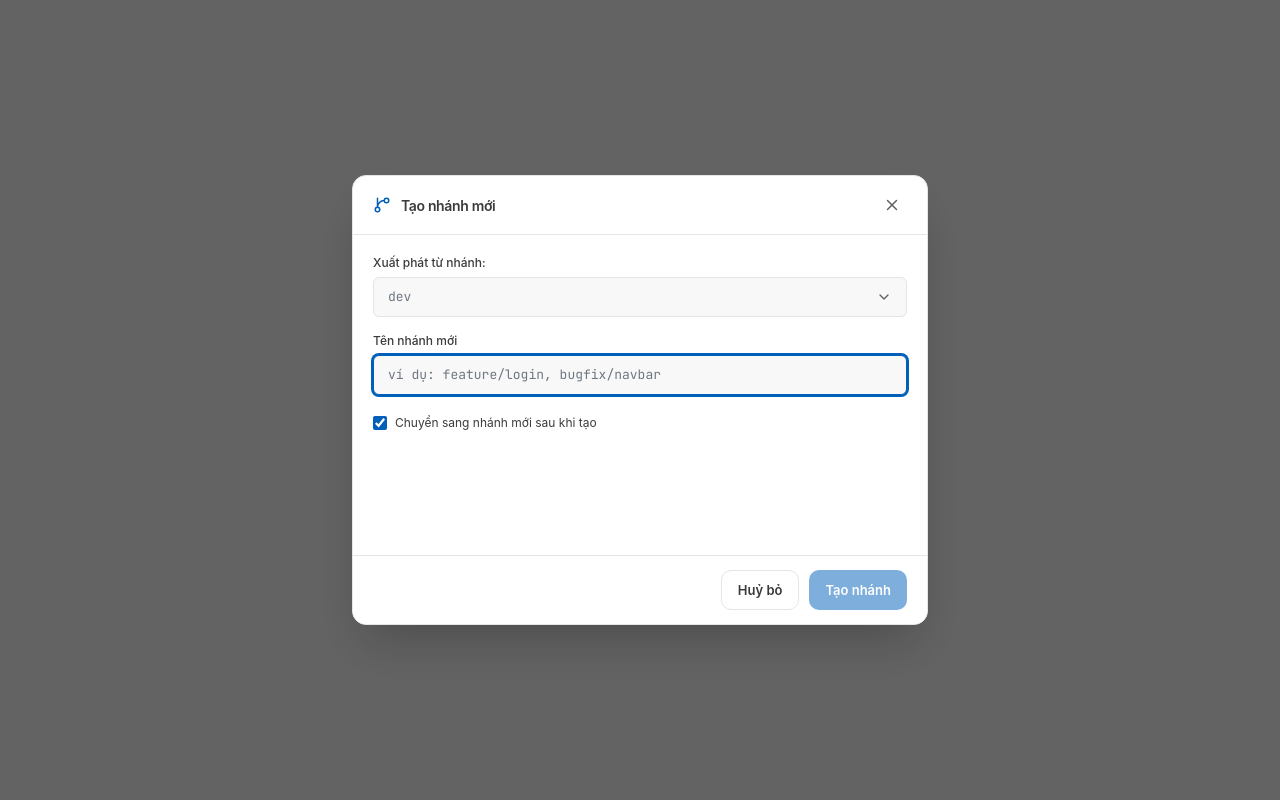
Test: CreateBranchModal checkout conflict › hides the conflict actions once the name is edited
The image size is (1280, 800).
Type "feat-x" into the field labelled "Tên nhánh mới".
click(640, 375); type("feat-x")  # box [373, 355, 907, 395]
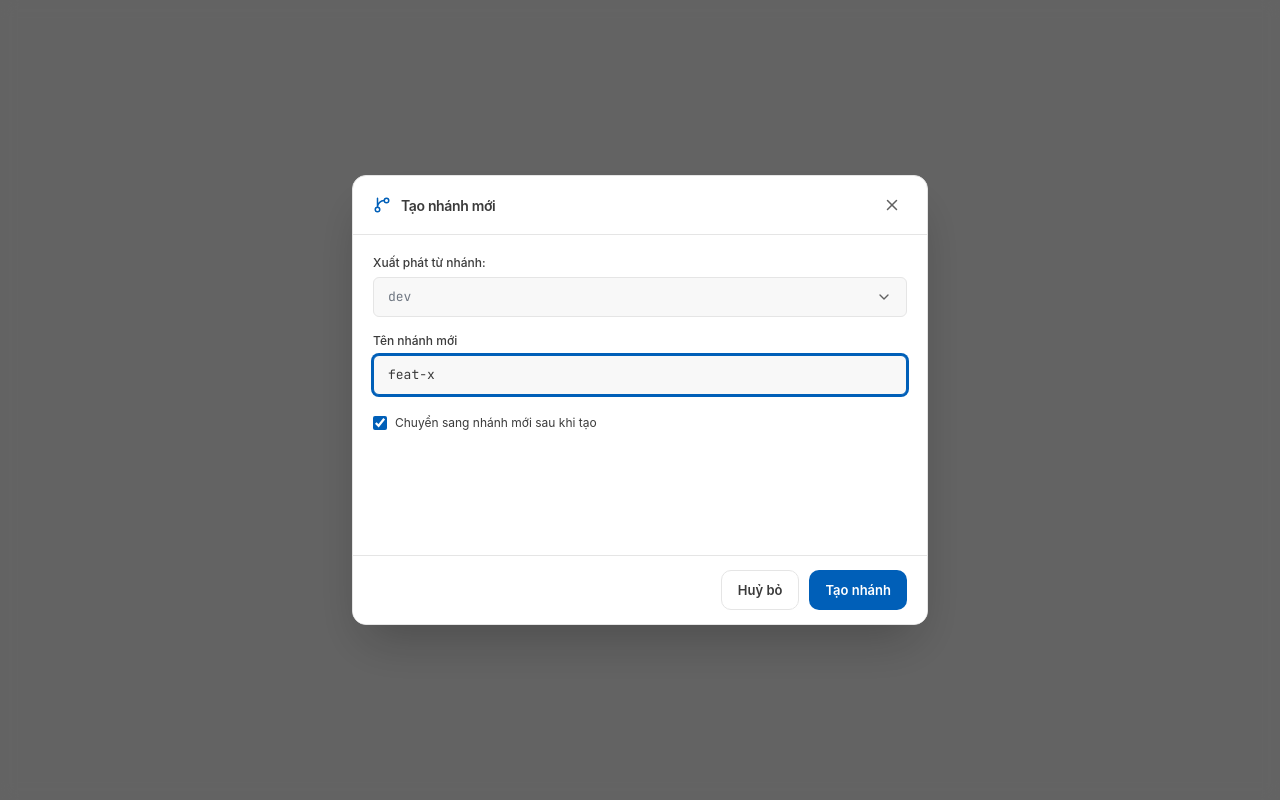
Click the button "Tạo nhánh".
click(858, 590)  # box [809, 570, 907, 610]
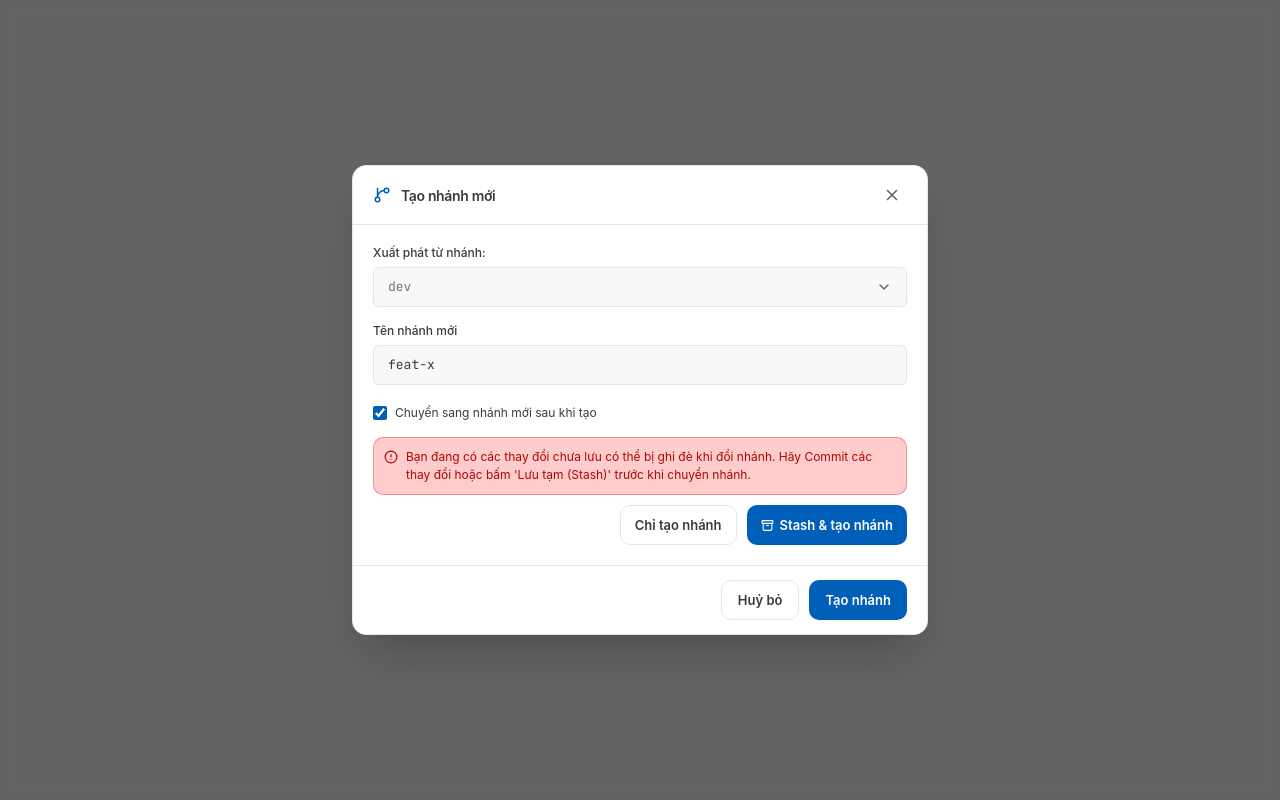
Check: the button "Chỉ tạo nhánh" is shown, box [620, 505, 736, 545]
Replace the text in the field labelled "Tên nhánh mới" with "feat-y" at coordinates (640, 365), box [373, 345, 907, 385]
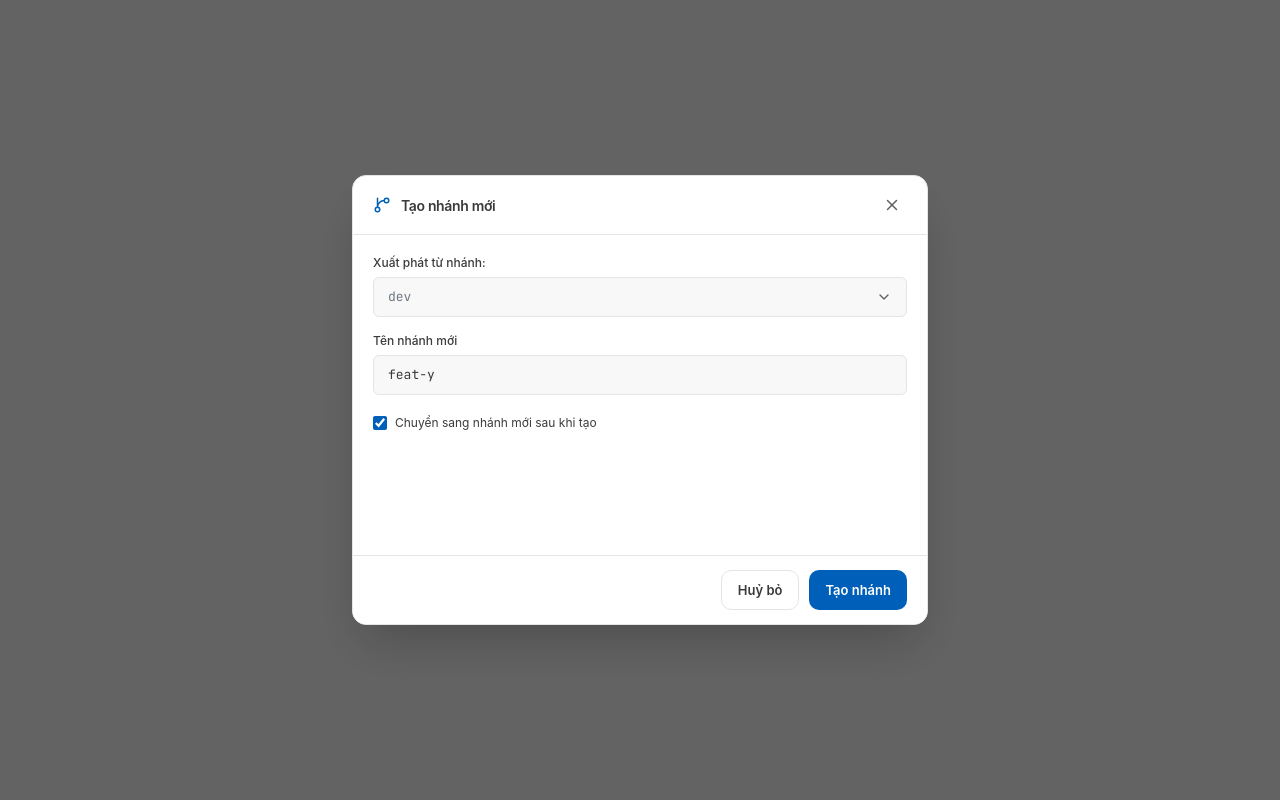
Check: the button "Chỉ tạo nhánh" is gone
